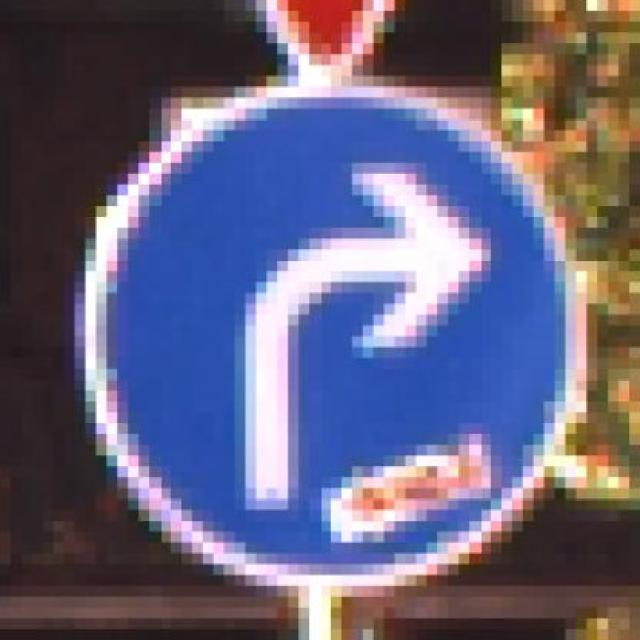Turn right ahead: (72, 90, 596, 602)
